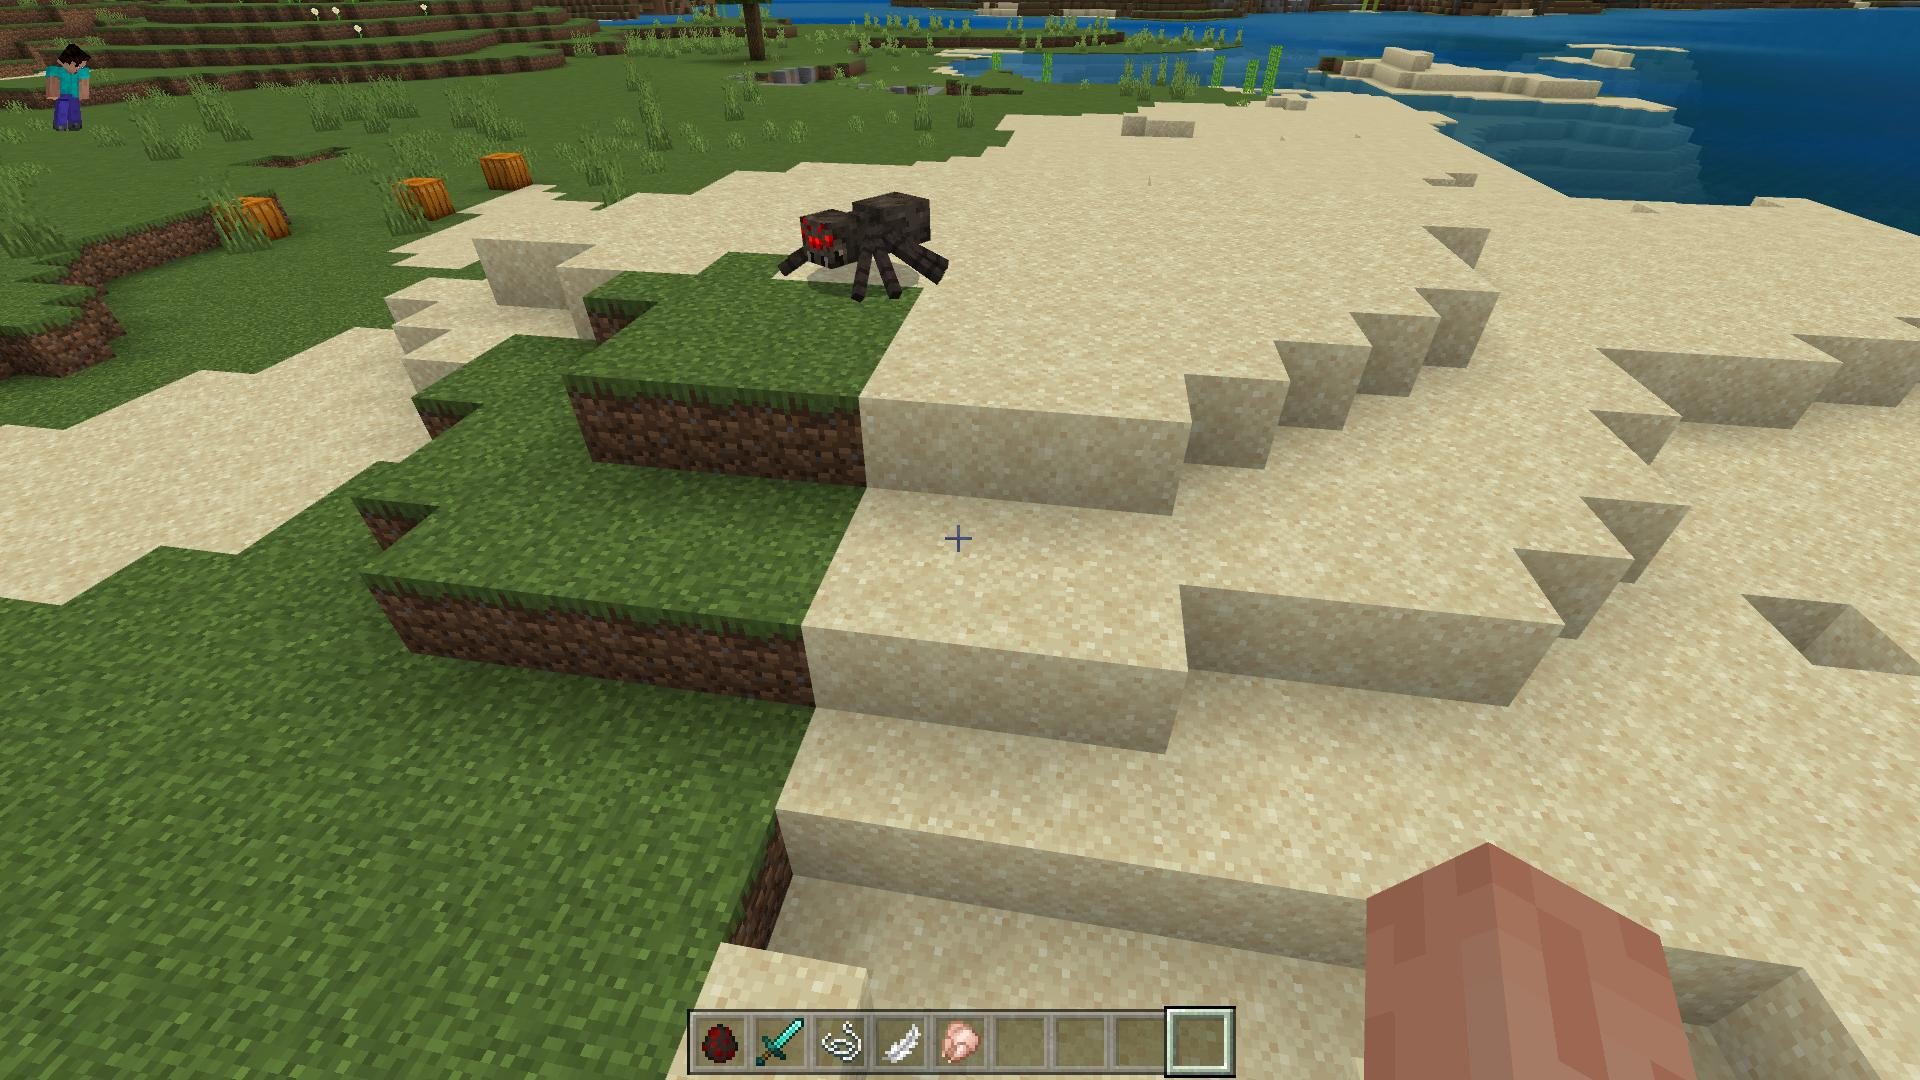spider: (771, 189, 948, 305)
